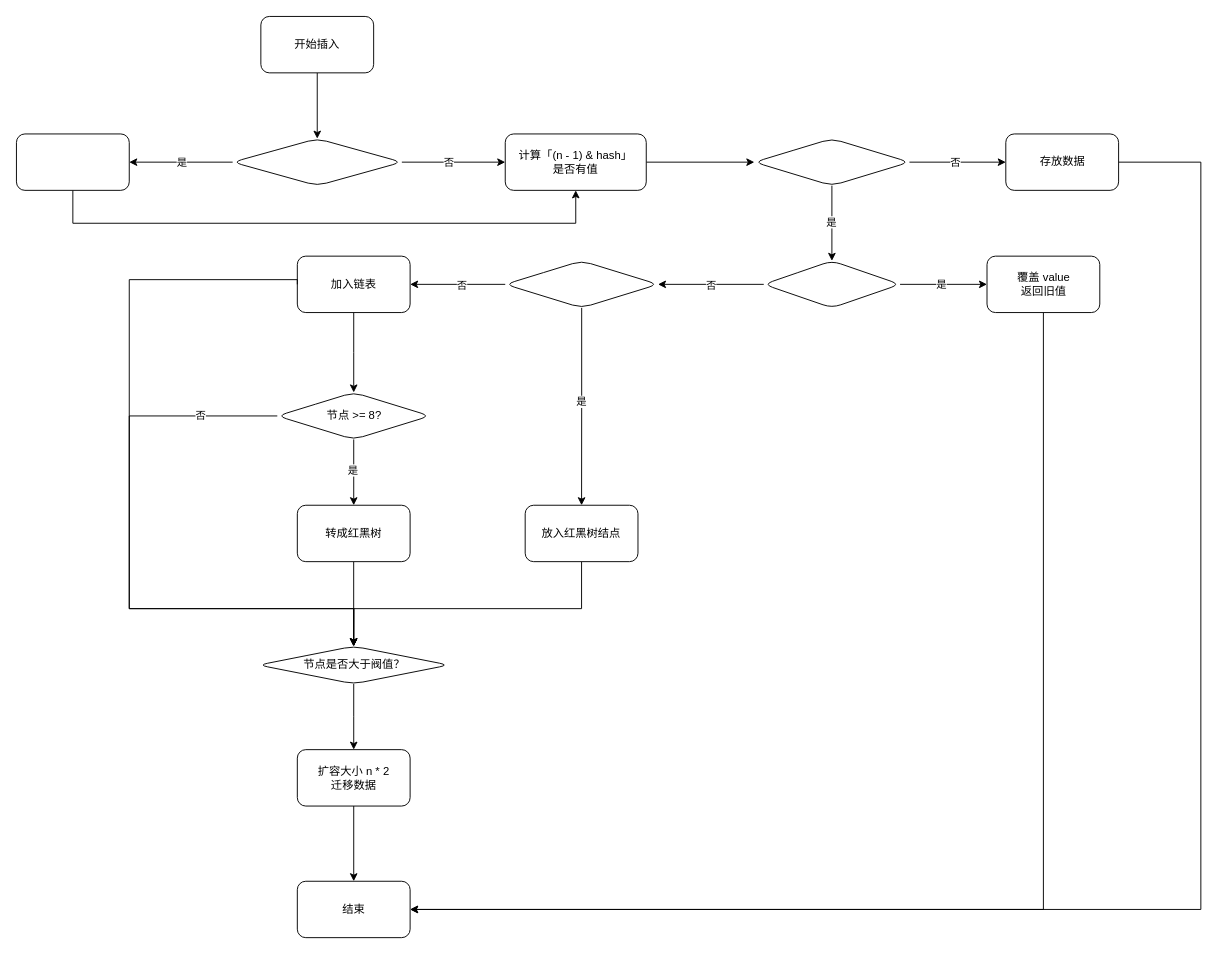
Some shapes in this 1225 by 954 pixel diagram are drawn without their labels. Here are the shapes that lost their labels. From the top down, the centre of each, then its label:
At pixel 72 161: "初始化数组".
At pixel 317 162: "数组是否为空？".
At pixel 831 162: "指定位置存在数据？".
At pixel 581 284: "是否红黑树？".
At pixel 831 284: "key 是否相等？".
